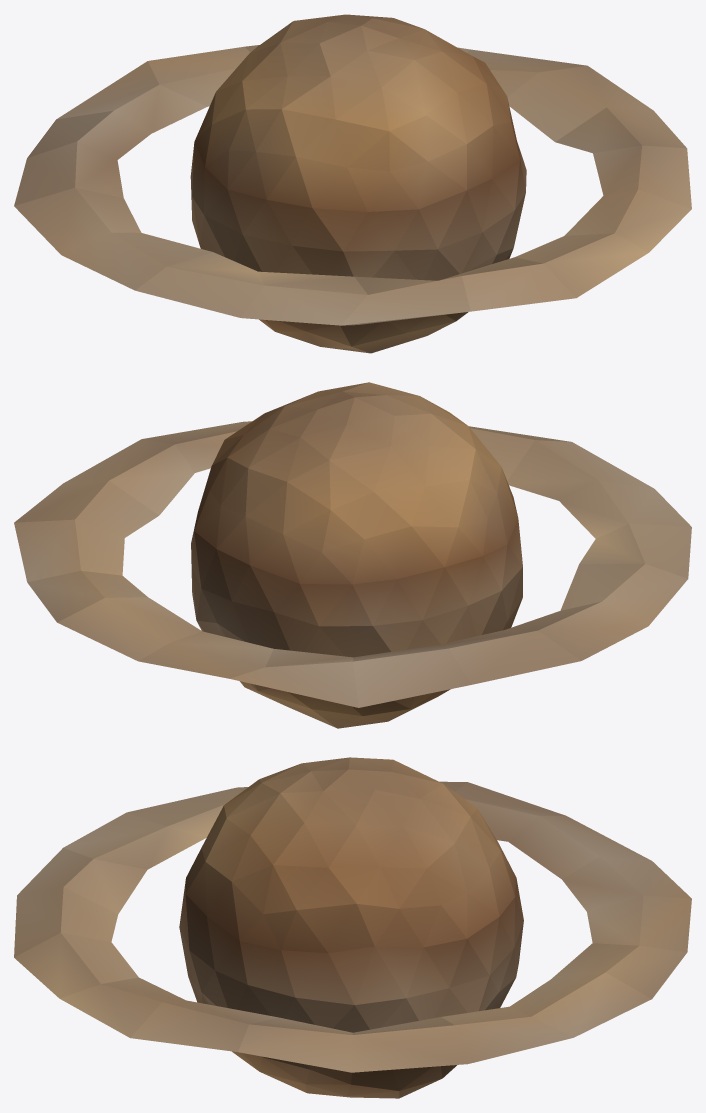
The model's file is Saturn.fbx.
3 renders of one model, top to bottom at view 1: azimuth 30°, elevation 25°; view 2: azimuth 150°, elevation 25°; view 3: azimuth 270°, elevation 25°, orthographic.
Parts seen in each view (by area): view 1: Saturn; view 2: Saturn; view 3: Saturn.
Part boxes in pixels (left/top/right/bottom): Saturn: left=14, top=14, right=691, bottom=353; Saturn: left=14, top=382, right=691, bottom=728; Saturn: left=14, top=757, right=691, bottom=1098.
Size of the model in its own units: 40 by 20.35 by 39.34.
